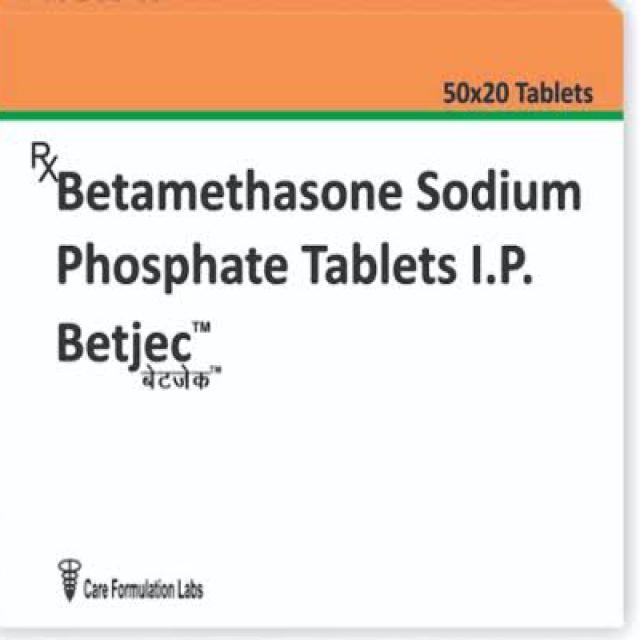drug-name: (48, 313, 214, 371)
